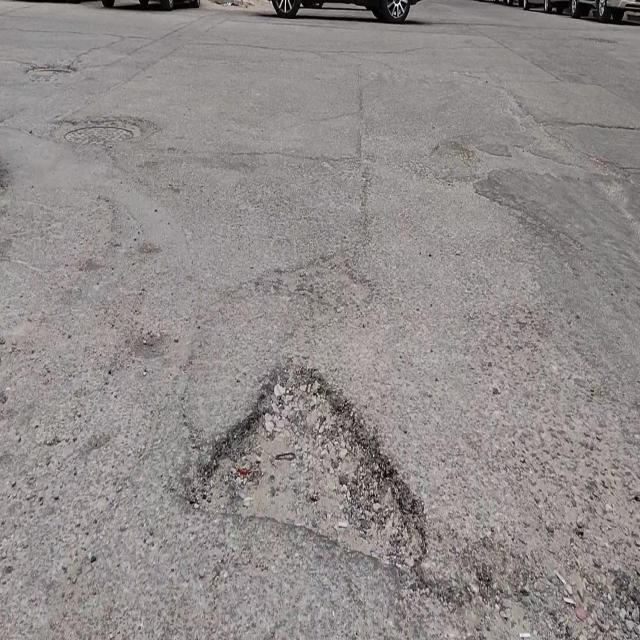Pothole: (175, 369, 427, 570)
